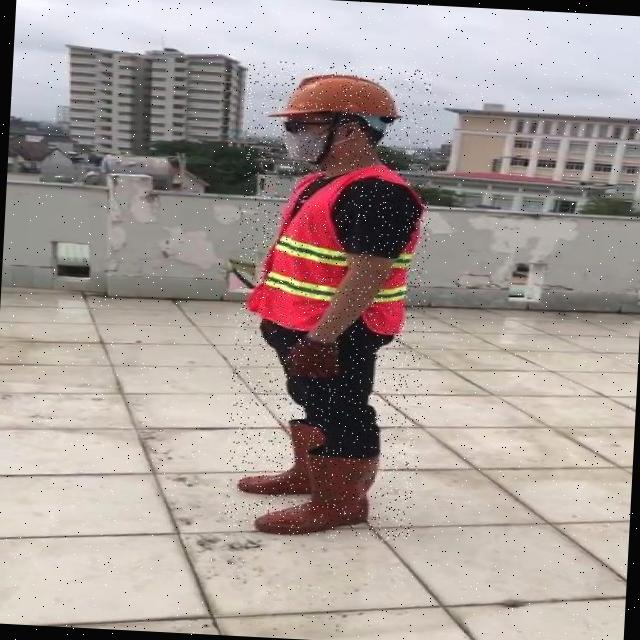boots: (257, 453, 379, 537), (242, 420, 324, 500)
helmet: (270, 69, 408, 124)
vest: (252, 162, 428, 336)
